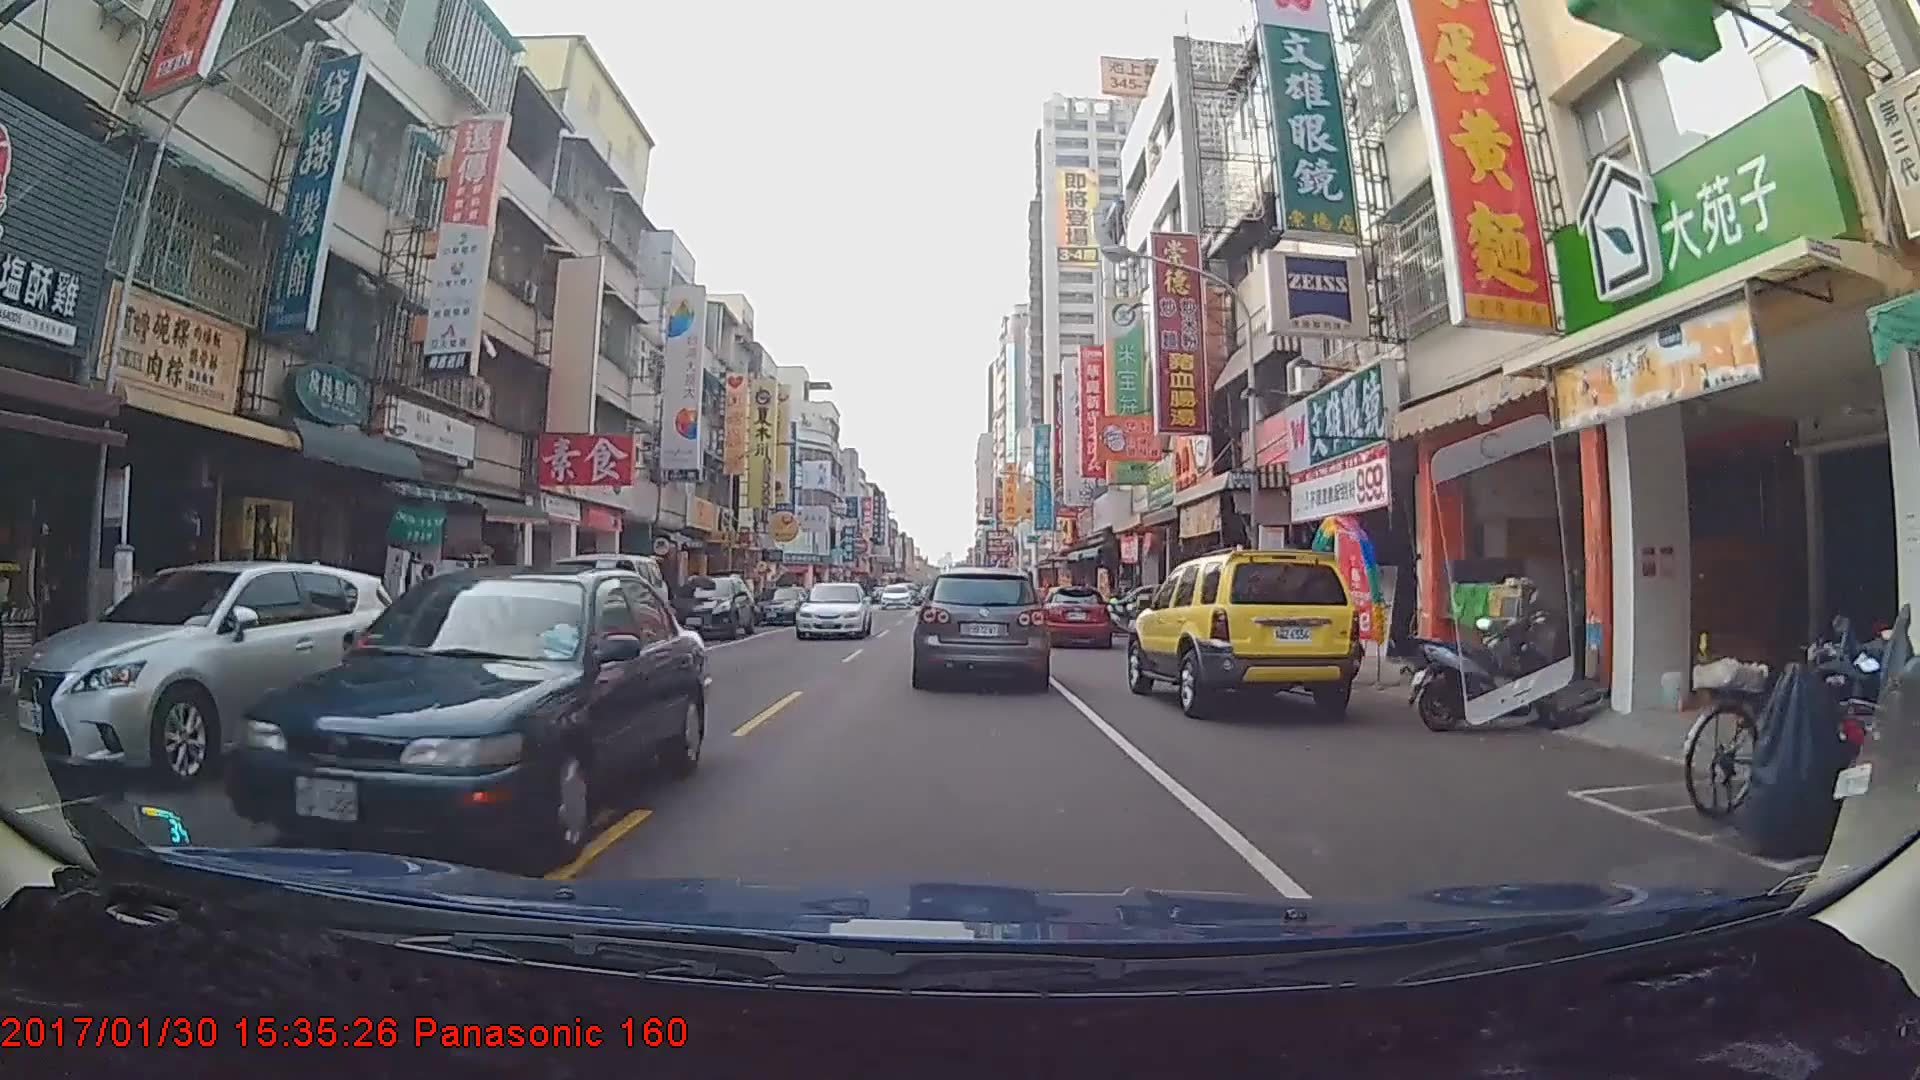vehicle: (228, 563, 705, 868), (9, 558, 406, 783), (1127, 545, 1360, 717), (916, 564, 1048, 688), (659, 576, 753, 640), (1035, 587, 1113, 649), (793, 580, 873, 640), (752, 587, 811, 628), (881, 585, 913, 611)
